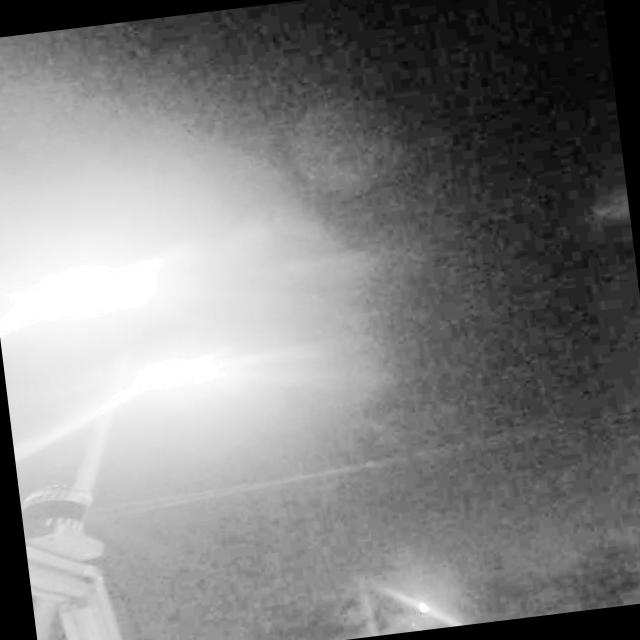Light: (6, 250, 181, 334), (130, 340, 248, 399)
